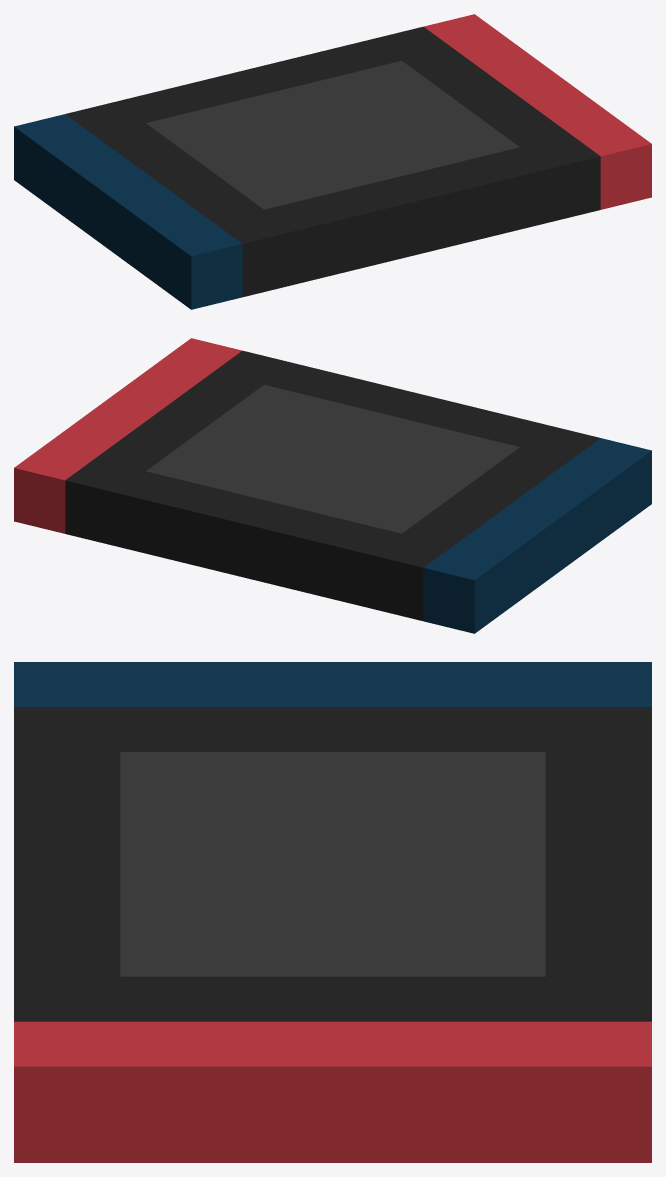
File: Office_Misc_Console_Swotch_02.gltf
3 renders of one model, top to bottom at view 1: azimuth 30°, elevation 25°; view 2: azimuth 150°, elevation 25°; view 3: azimuth 270°, elevation 25°, orthographic. The views are drawn at different scales.
Visible parts, largest first — view 1: Node; view 2: Node; view 3: Node.
Boxes of the visible parts, x1=… form: Node: x1=14, y1=14, x2=651, y2=309; Node: x1=14, y1=338, x2=651, y2=633; Node: x1=14, y1=662, x2=651, y2=1162.
Size of the model in its own units: 0.9 by 0.1 by 0.6.
Materials: 1 (1 with a texture image).
